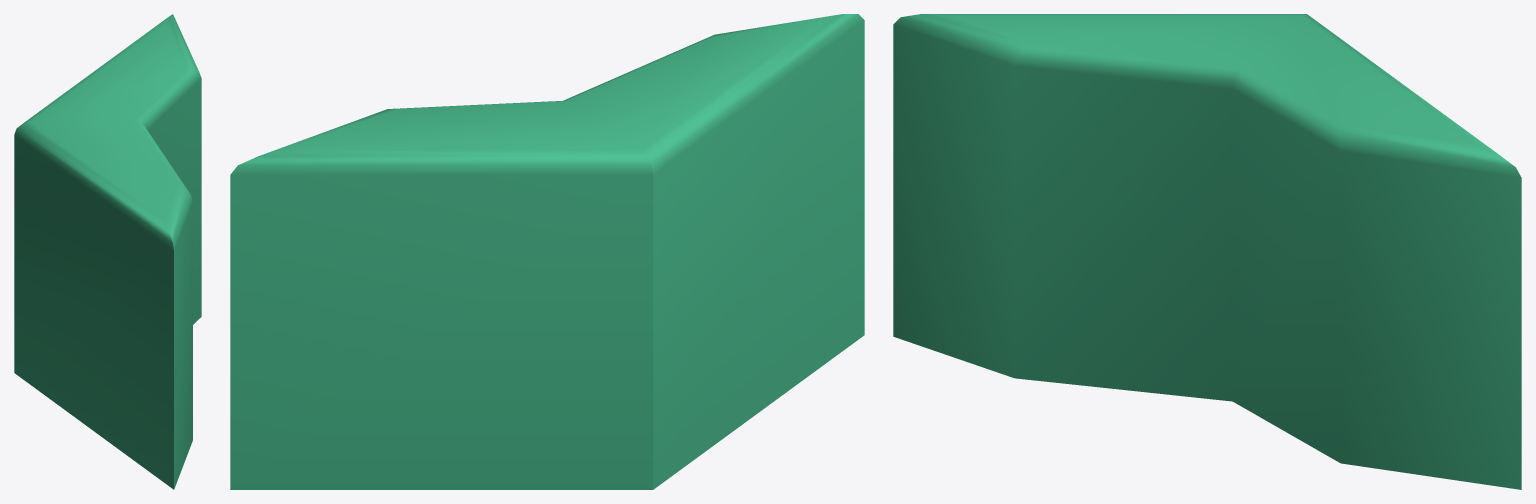
Rendered from hex_forest_waterA_empty.glb.
3 views of the same model, side by side, from view 1: azimuth 30°, elevation 25°; view 2: azimuth 150°, elevation 25°; view 3: azimuth 270°, elevation 25° (orthographic). The views are drawn at different scales.
Parts seen in each view (by area): view 1: hex_forest_waterA_empty; view 2: hex_forest_waterA_empty; view 3: hex_forest_waterA_empty.
Boxes of the visible parts, <box> form: hex_forest_waterA_empty: <box>14,14,201,489</box>; hex_forest_waterA_empty: <box>230,14,864,489</box>; hex_forest_waterA_empty: <box>893,14,1521,489</box>.
Bounding box in the file's own units: 1.91 × 1.91 × 3.3.
